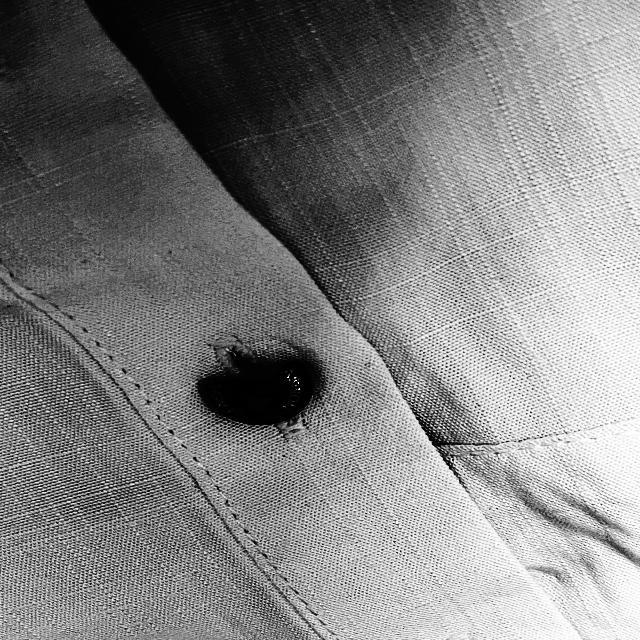Broken_button: (184, 351, 330, 436)
